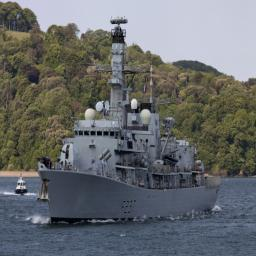Fragata: (38, 16, 222, 227)
